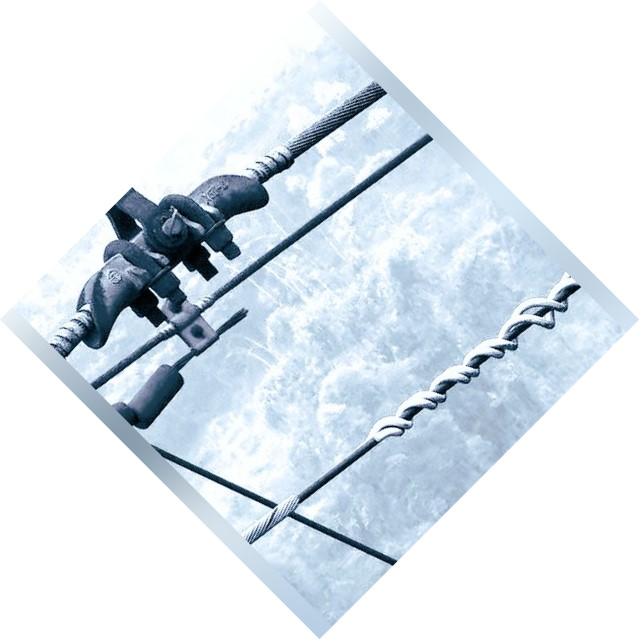Damage of shockproof hammer: (124, 281, 258, 432)
